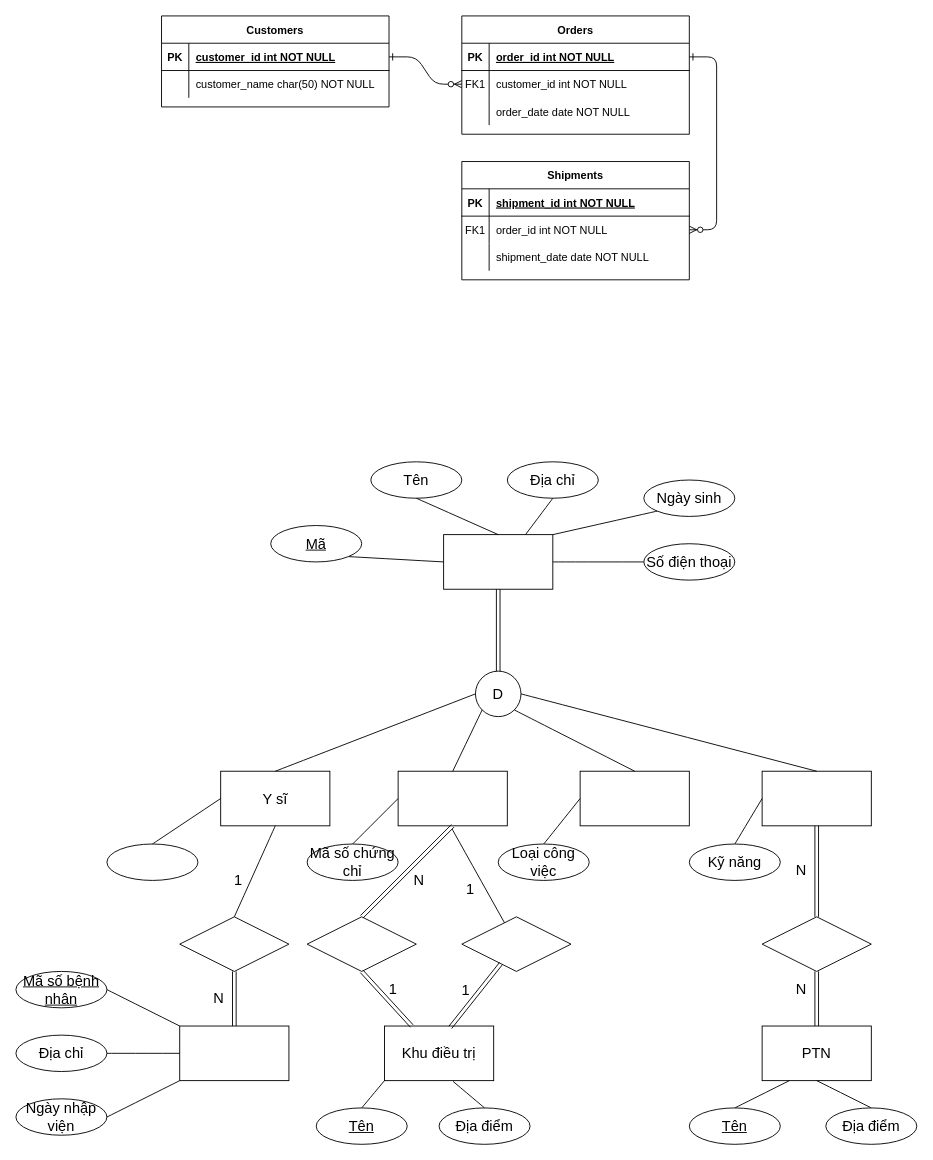
Some shapes in this 933 by 1160 pixel diagram are drawn without their labels. Here are the shapes that lost their labels. From the top down, the centre of each, then its label:
the point at 498,561: Nhân viên
the point at 452,798: Y tá
the point at 634,798: Nhân viên văn phòng
the point at 816,798: Kĩ thuật viên
the point at 152,861: Chuyên ngành
the point at 234,943: Điều trị
the point at 361,943: Trực
the point at 516,943: Trưởng phòng
the point at 816,943: Phục vụ
the point at 234,1053: Bệnh nhân
